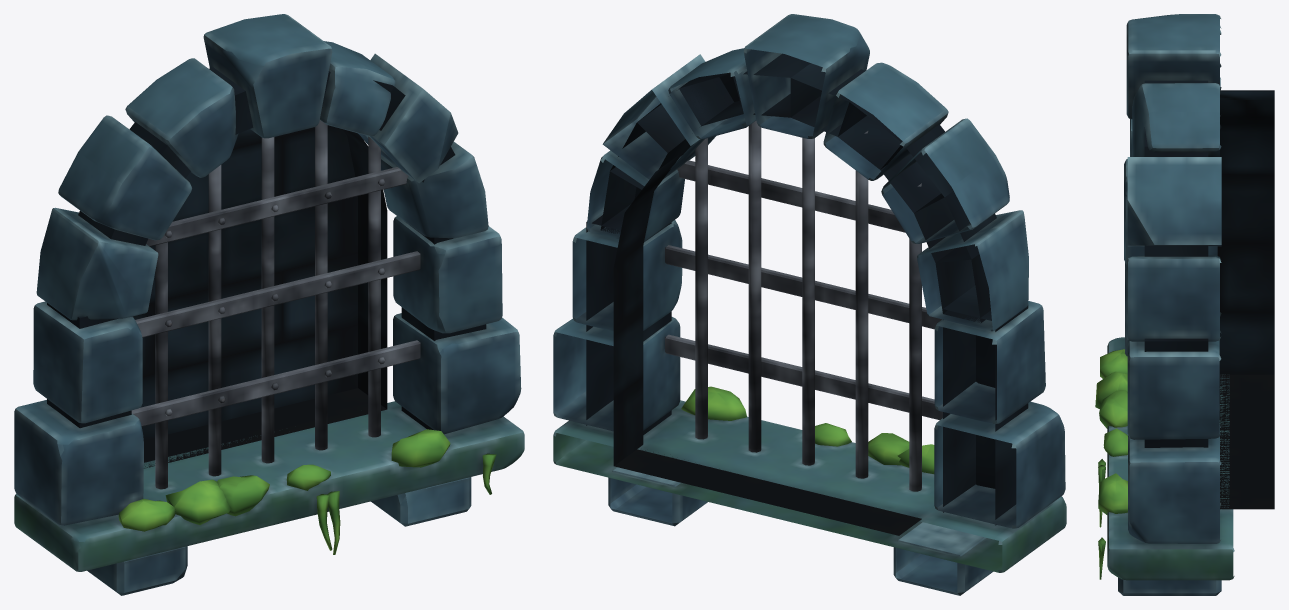
Rendered from ENV_Grate.fbx.
3 views of the same model, side by side, from view 1: azimuth 30°, elevation 25°; view 2: azimuth 150°, elevation 25°; view 3: azimuth 270°, elevation 25° (orthographic). The views are drawn at different scales.
Visible parts, largest first — view 1: ENV_Grate; view 2: ENV_Grate; view 3: ENV_Grate.
Boxes of the visible parts, x1,y1,x2,y2 form: ENV_Grate: [14, 14, 524, 595]; ENV_Grate: [553, 14, 1066, 595]; ENV_Grate: [1095, 14, 1274, 595].
Bounding box in the file's own units: 1.97 × 2.02 × 0.6755.
